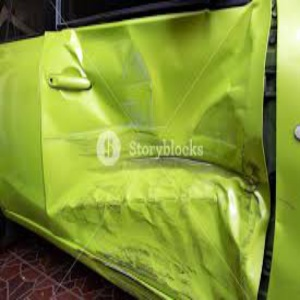door: (18, 42, 267, 282)
